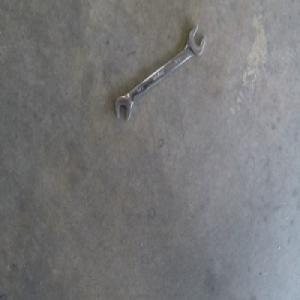Wrench: (115, 25, 205, 122)
